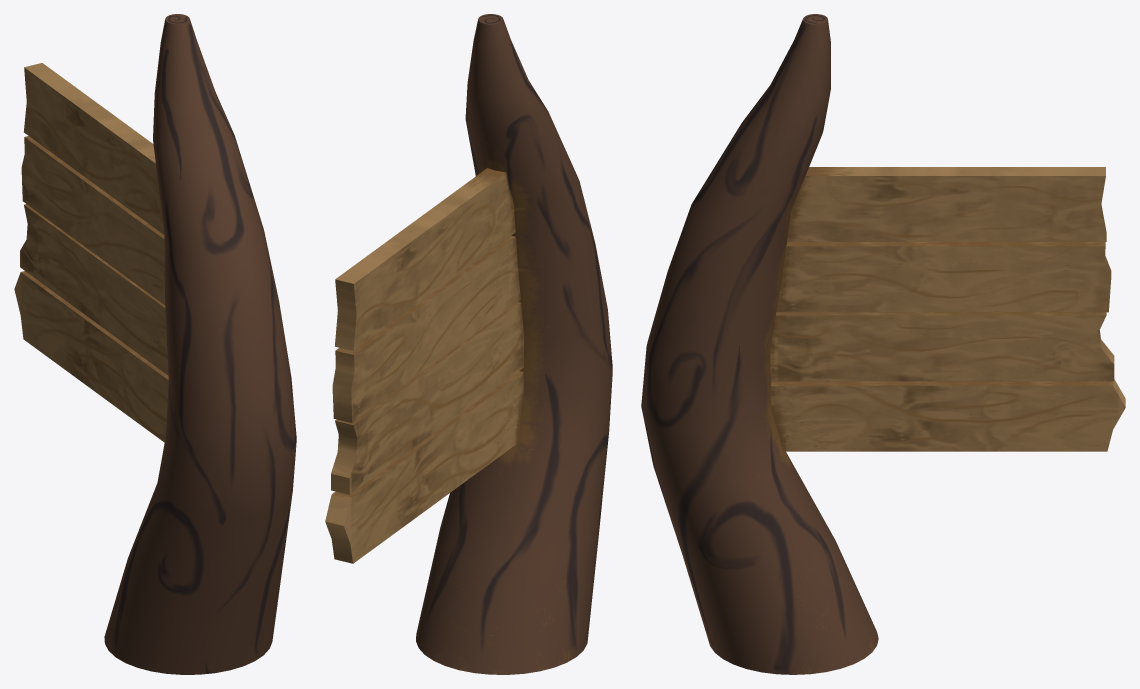
Rendered from scoreboard final.fbx.
3 renders of one model, left to right at view 1: azimuth 30°, elevation 25°; view 2: azimuth 150°, elevation 25°; view 3: azimuth 270°, elevation 25°, orthographic. The views are drawn at different scales.
Parts seen in each view (by area): view 1: Cylinder.001; view 2: Cylinder.001; view 3: Cylinder.001.
Part boxes in pixels (bbox=[...]): Cylinder.001: bbox=[14, 14, 296, 674]; Cylinder.001: bbox=[325, 14, 612, 674]; Cylinder.001: bbox=[641, 14, 1125, 674].
Size of the model in its own units: 402 by 1612 by 1142.
